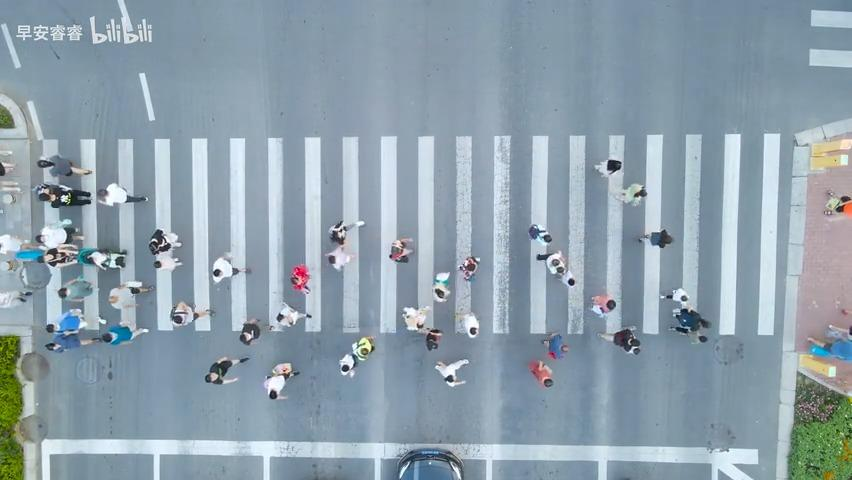Civilian: (44, 308, 98, 352), (34, 218, 84, 250), (338, 335, 375, 377), (32, 182, 91, 208), (263, 362, 300, 400), (536, 250, 575, 286), (204, 355, 249, 385), (36, 154, 92, 178), (596, 326, 641, 355), (96, 182, 148, 207), (211, 251, 251, 283), (98, 320, 149, 345), (169, 300, 215, 327), (108, 282, 154, 309), (77, 247, 127, 271), (806, 335, 851, 360), (434, 358, 469, 387), (275, 301, 312, 327), (327, 219, 365, 244), (608, 182, 647, 206), (57, 276, 94, 301), (148, 228, 182, 255), (149, 254, 192, 275), (668, 307, 700, 334), (38, 246, 73, 270), (324, 244, 355, 271), (822, 189, 851, 217), (540, 331, 568, 359), (401, 305, 431, 331), (637, 228, 673, 248), (528, 359, 553, 387), (587, 294, 616, 317), (388, 237, 414, 262), (431, 271, 451, 302), (290, 264, 310, 294), (456, 312, 479, 338), (239, 318, 261, 345), (0, 289, 32, 307), (458, 255, 480, 280), (528, 223, 552, 245), (593, 159, 622, 177), (825, 323, 851, 341), (271, 362, 300, 378), (659, 287, 689, 302), (424, 327, 442, 350), (0, 160, 16, 176)
